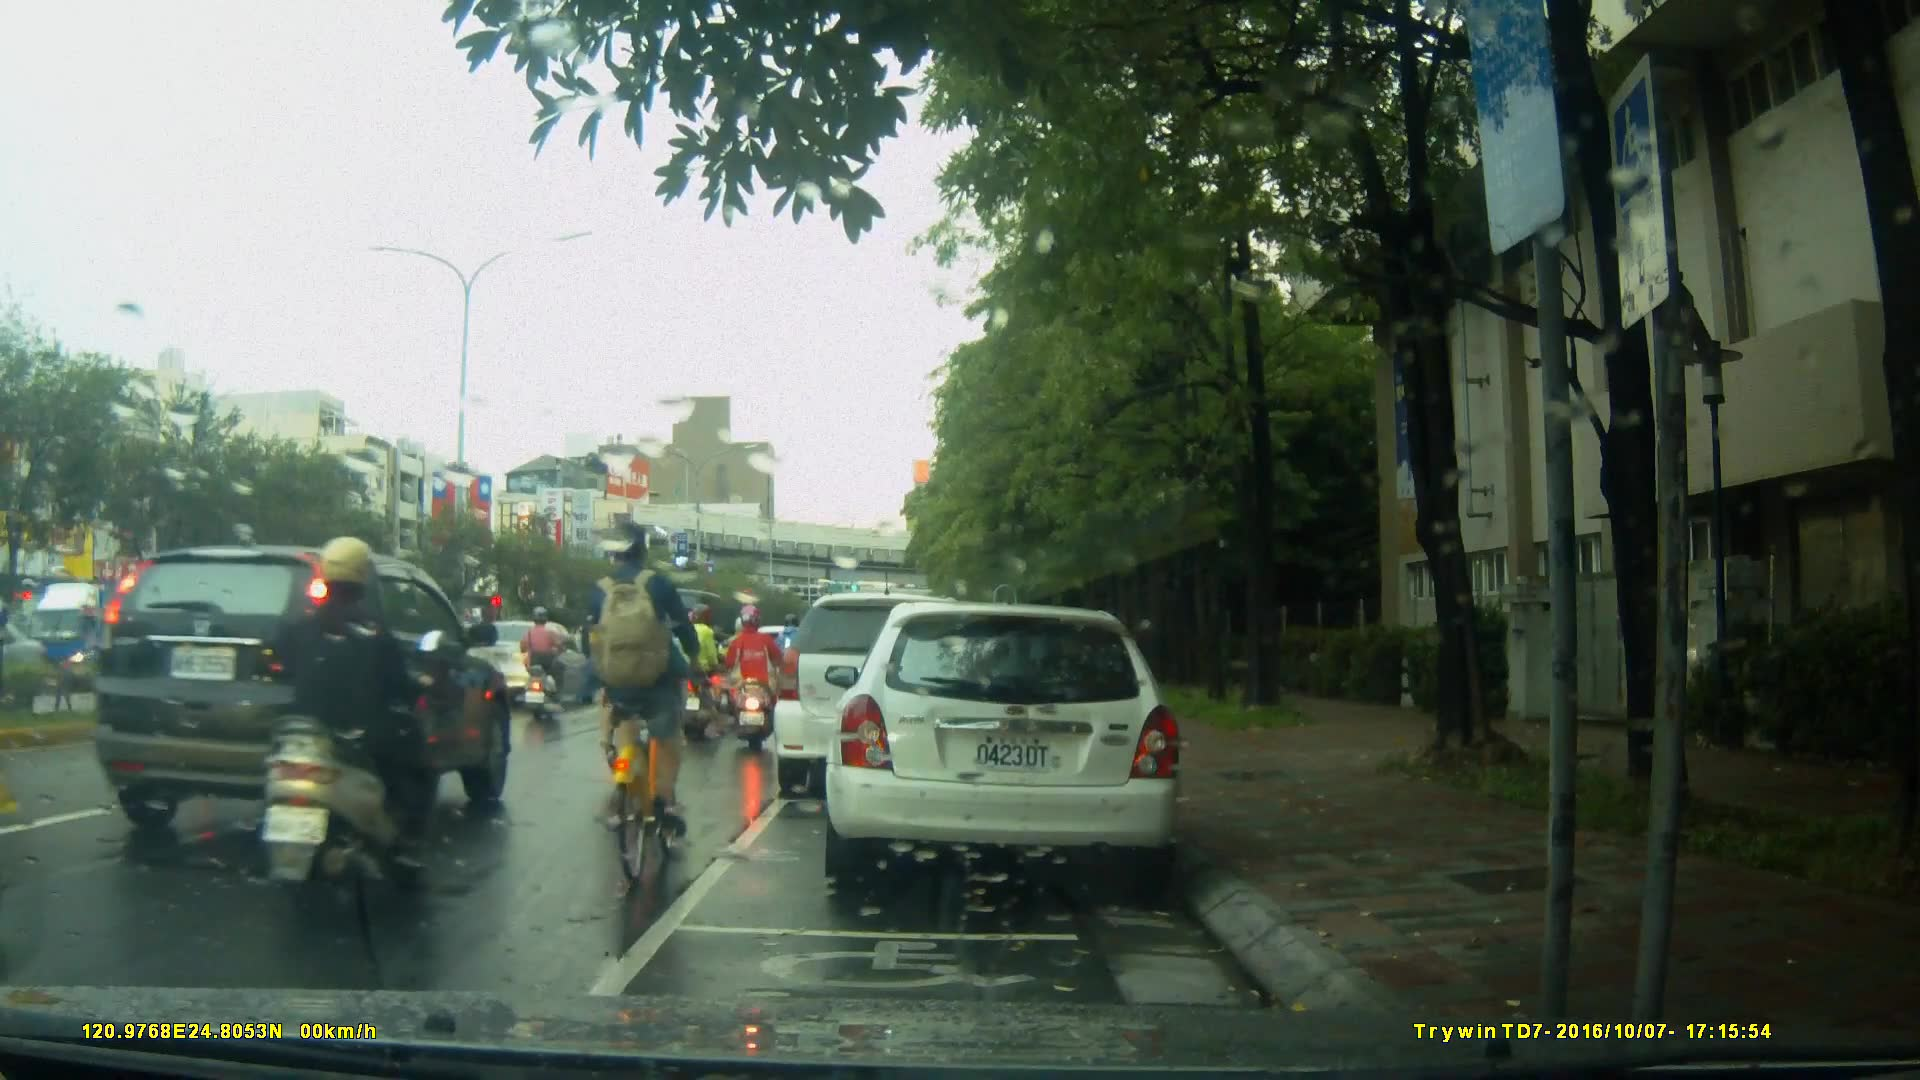rider: (260, 531, 444, 929), (605, 522, 701, 899), (716, 603, 784, 752), (520, 611, 571, 720), (769, 608, 818, 722)
vehicle: (89, 543, 513, 838), (822, 604, 1188, 883), (774, 595, 995, 802)
